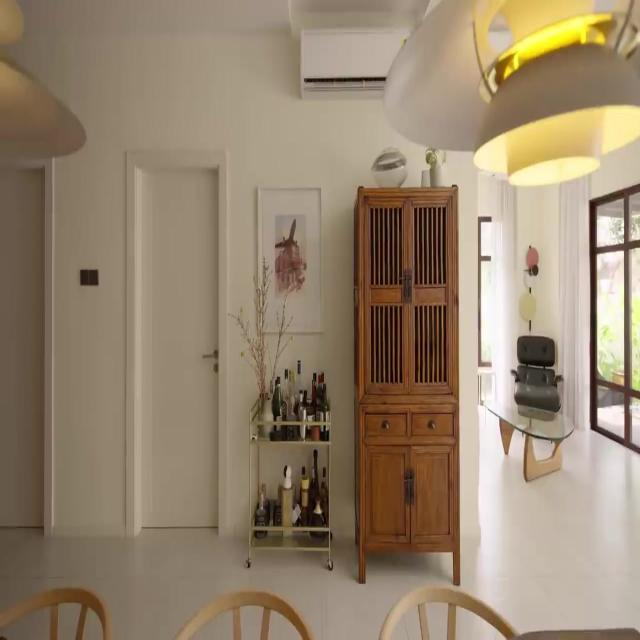door: (131, 156, 221, 532)
obstacle: (353, 185, 461, 586), (245, 396, 332, 570), (481, 398, 574, 482), (378, 586, 520, 639), (173, 590, 313, 639), (0, 587, 111, 639), (510, 334, 564, 419)
